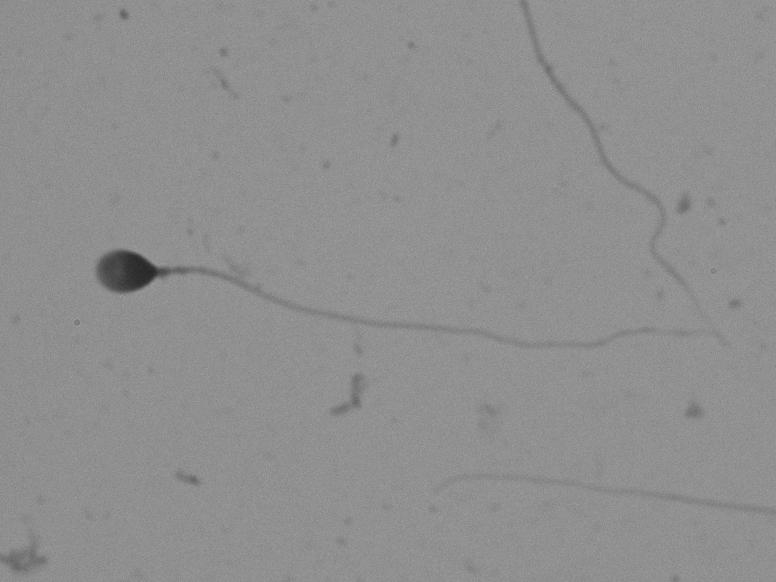Normal: (71, 165, 671, 404)
